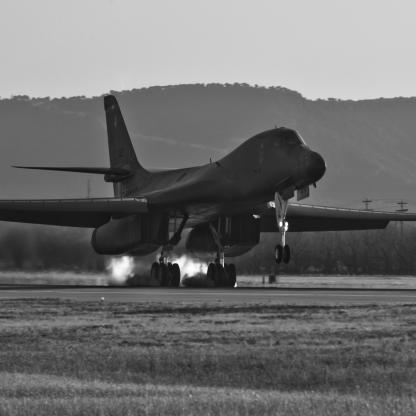B1: (1, 94, 416, 288)
